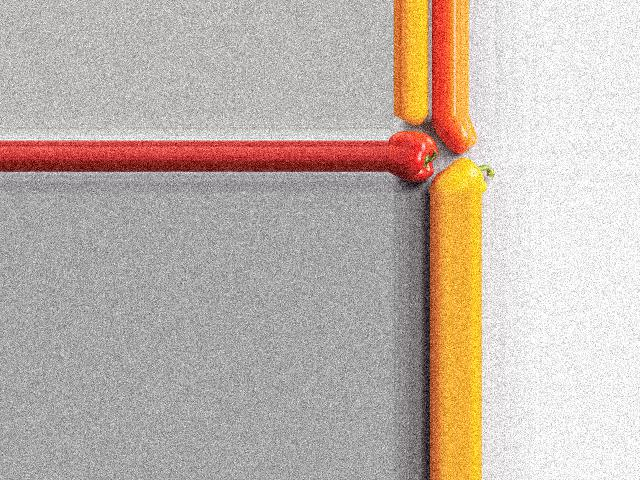bell_pepper: (389, 131, 436, 186)
